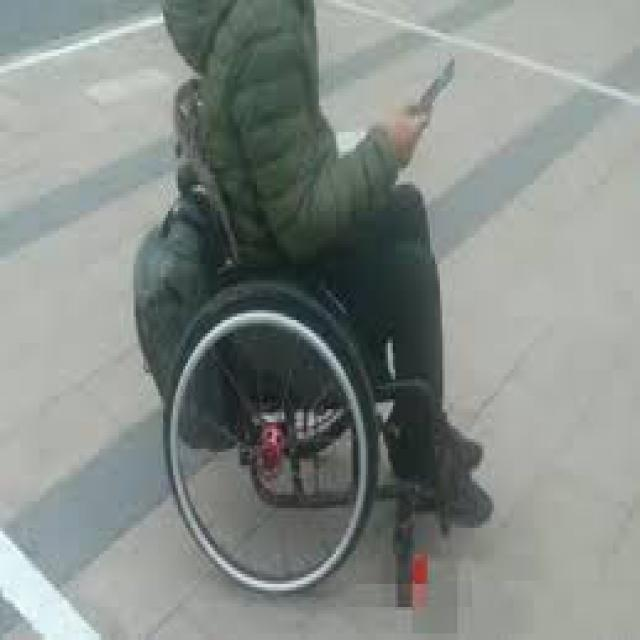wheelchairs: (128, 132, 504, 597)
